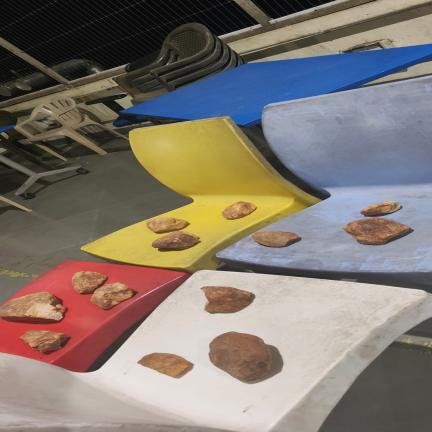Rocks: (210, 332, 271, 381), (0, 292, 66, 321), (343, 218, 410, 244), (201, 287, 253, 312), (138, 353, 193, 376), (91, 283, 133, 309), (21, 330, 69, 352), (152, 232, 200, 249), (252, 231, 300, 247), (72, 272, 107, 293), (146, 218, 189, 233), (222, 202, 256, 219), (360, 202, 401, 216)
